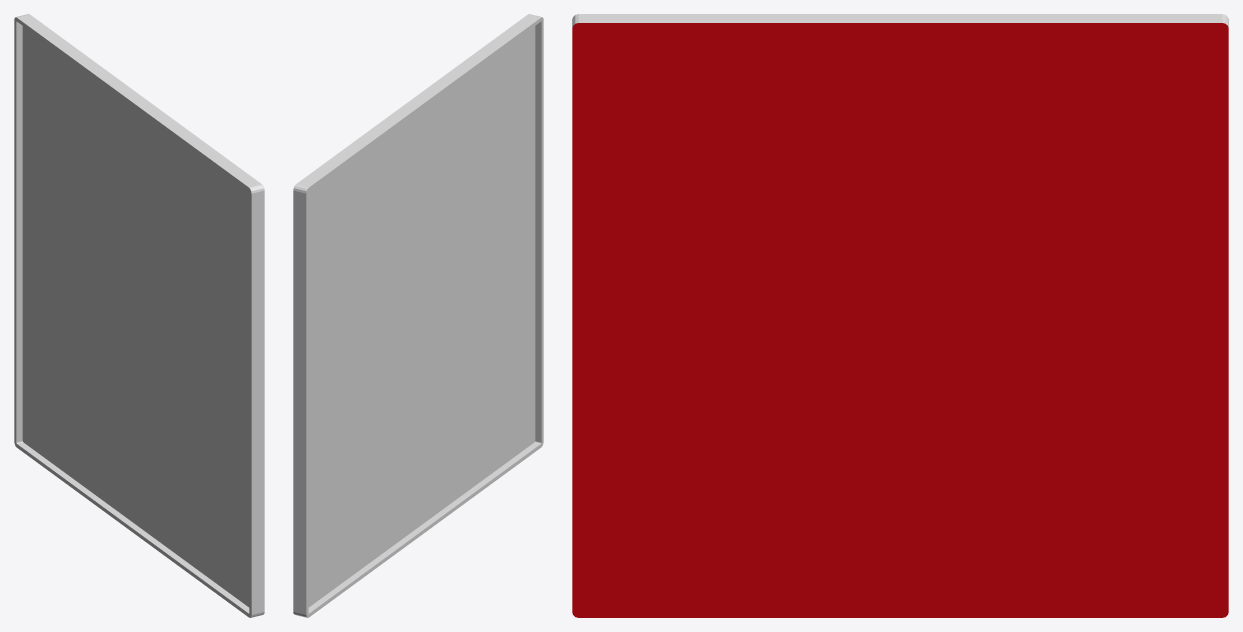
The model's file is tableau.fbx.
The picture shows the model from 3 angles, left to right: view 1: azimuth 30°, elevation 25°; view 2: azimuth 150°, elevation 25°; view 3: azimuth 270°, elevation 25°; orthographic projection. The views are drawn at different scales.
Parts seen in each view (by area): view 1: Tableau; view 2: Tableau; view 3: Tableau.
Part boxes in pixels (left/top/right/bottom): Tableau: left=14, top=14, right=264, bottom=617; Tableau: left=293, top=14, right=543, bottom=617; Tableau: left=572, top=14, right=1228, bottom=617.
Bounding box in the file's own units: 20.88 × 650 × 650.
